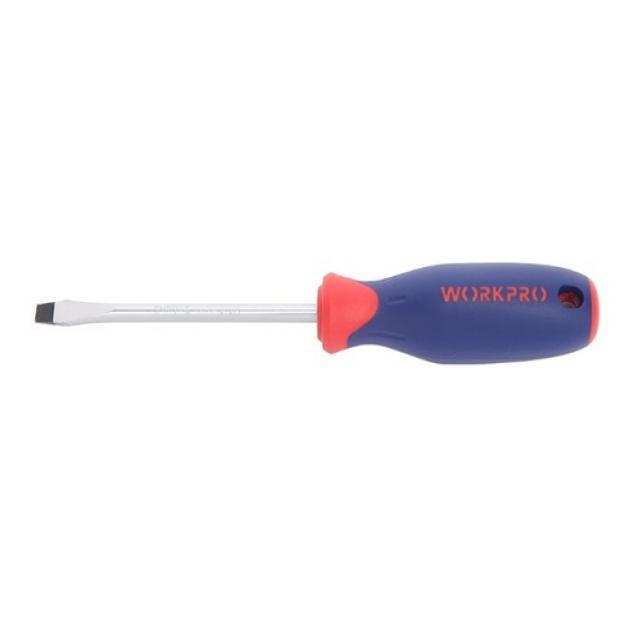screwdriver: (29, 256, 606, 370)
